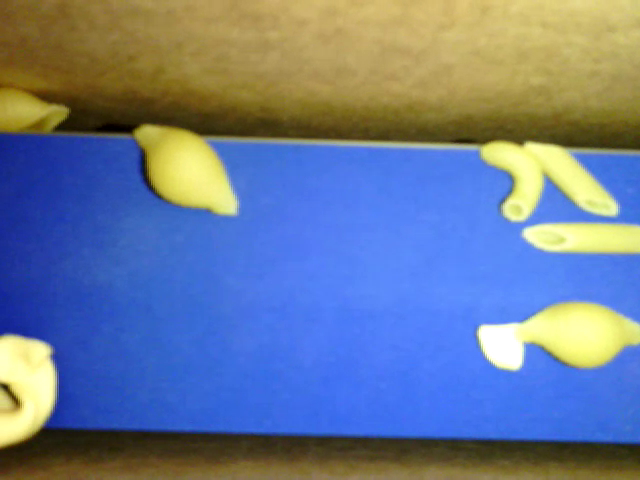elbow: (478, 138, 543, 221)
penne: (522, 140, 618, 217), (520, 222, 639, 253)
shell: (133, 122, 237, 218), (517, 302, 639, 370), (1, 85, 70, 131)
tortellini: (1, 334, 59, 449)
